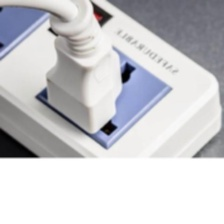three_eye_plug: (0, 0, 223, 204)
